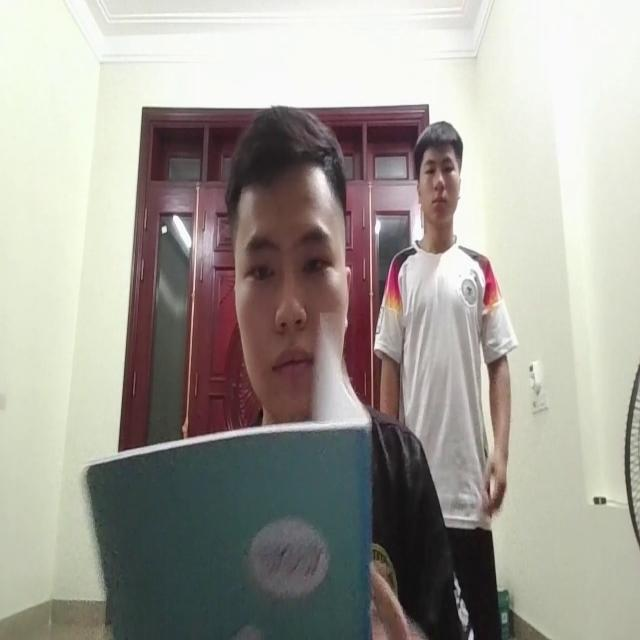book: (76, 382, 374, 640)
extra_person: (379, 127, 512, 554)
student: (227, 98, 356, 427)
